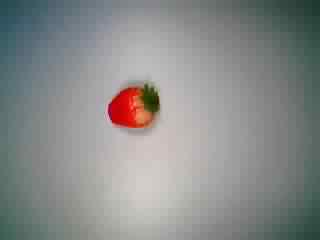strawberry: (101, 76, 167, 138)
